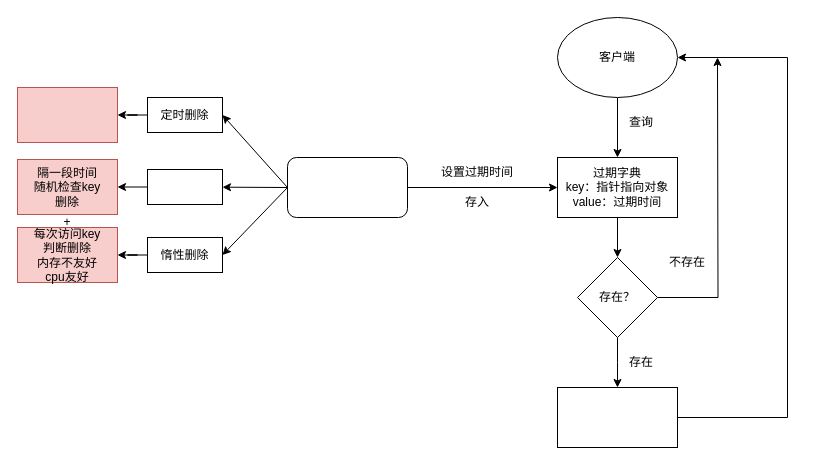
The diagram is 813 pixels wide and 465 high, and some of its shapes have lost their labels. Each missing label, with the centre of its shape:
"判断是否过期" goes at pixel 617 417.
"定时事件自动删除 内存友好 cpu不友好" goes at pixel 67 114.
"定期删除" goes at pixel 184 186.
"过期删除策略" goes at pixel 347 187.
